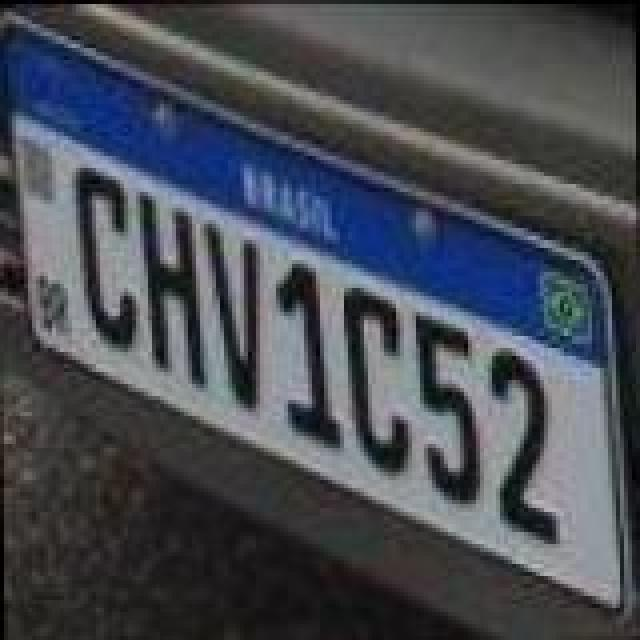1: (270, 258, 346, 450)
2: (484, 346, 560, 550)
5: (416, 310, 484, 506)
C: (338, 280, 414, 476), (76, 168, 144, 352)
H: (140, 192, 212, 392)
V: (200, 220, 264, 412)
